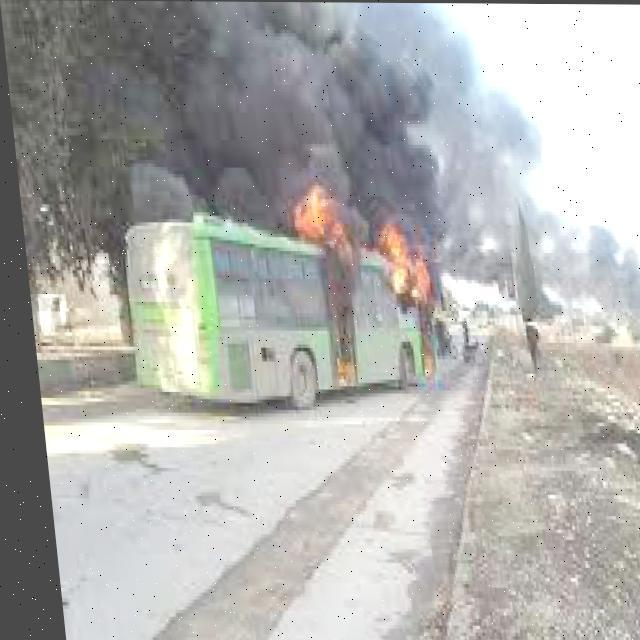Fire: (270, 181, 376, 382)
